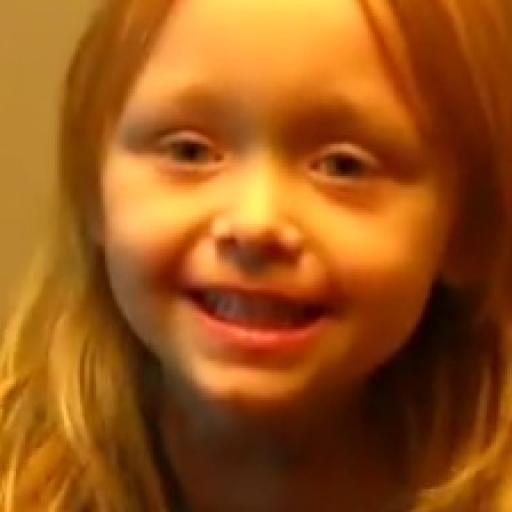Autism: (70, 0, 512, 508)
